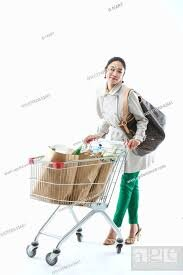with_basket: (26, 138, 126, 265)
without_mask: (103, 55, 127, 86)
